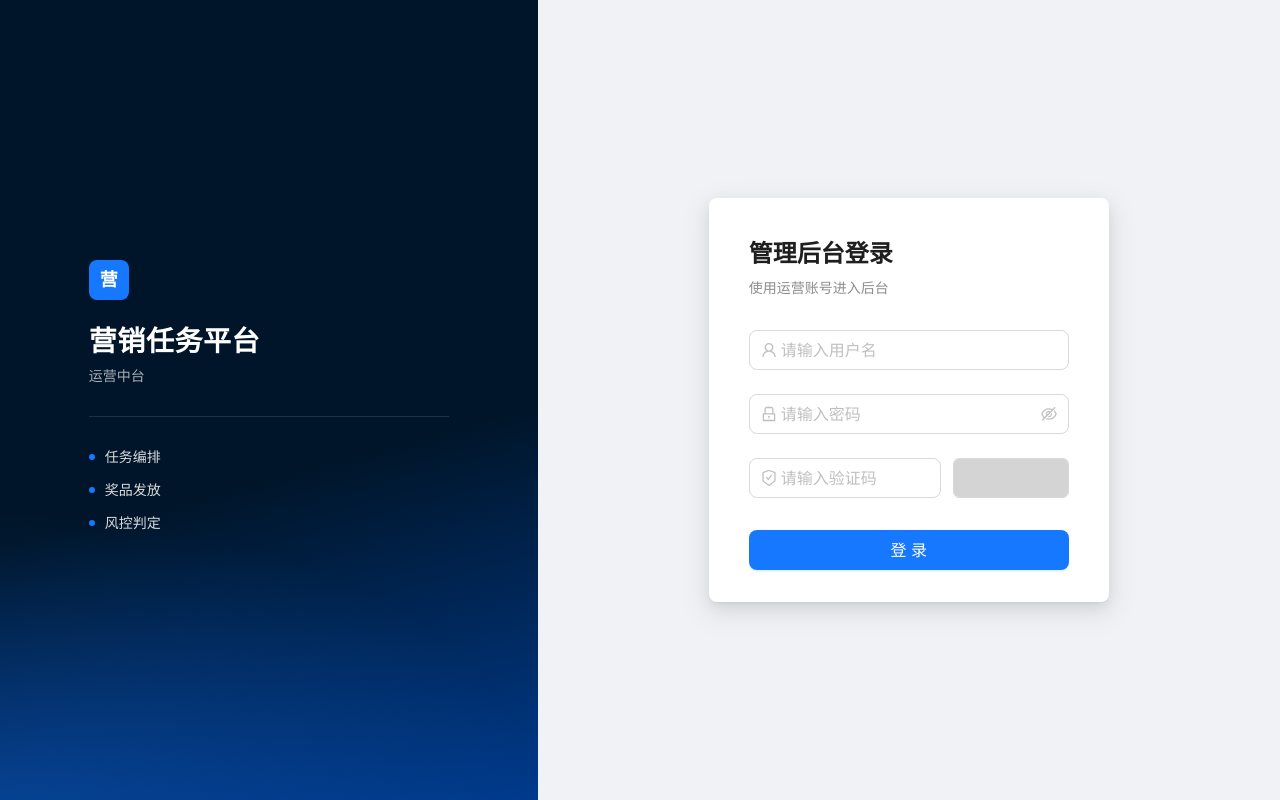
Test: LoginPage › shows unified credential error without refreshing captcha
The width and height of the screenshot is (1280, 800).
Type "admin" into the field with placeholder "请输入用户名" at coordinates (919, 350), box [781, 338, 1057, 362]
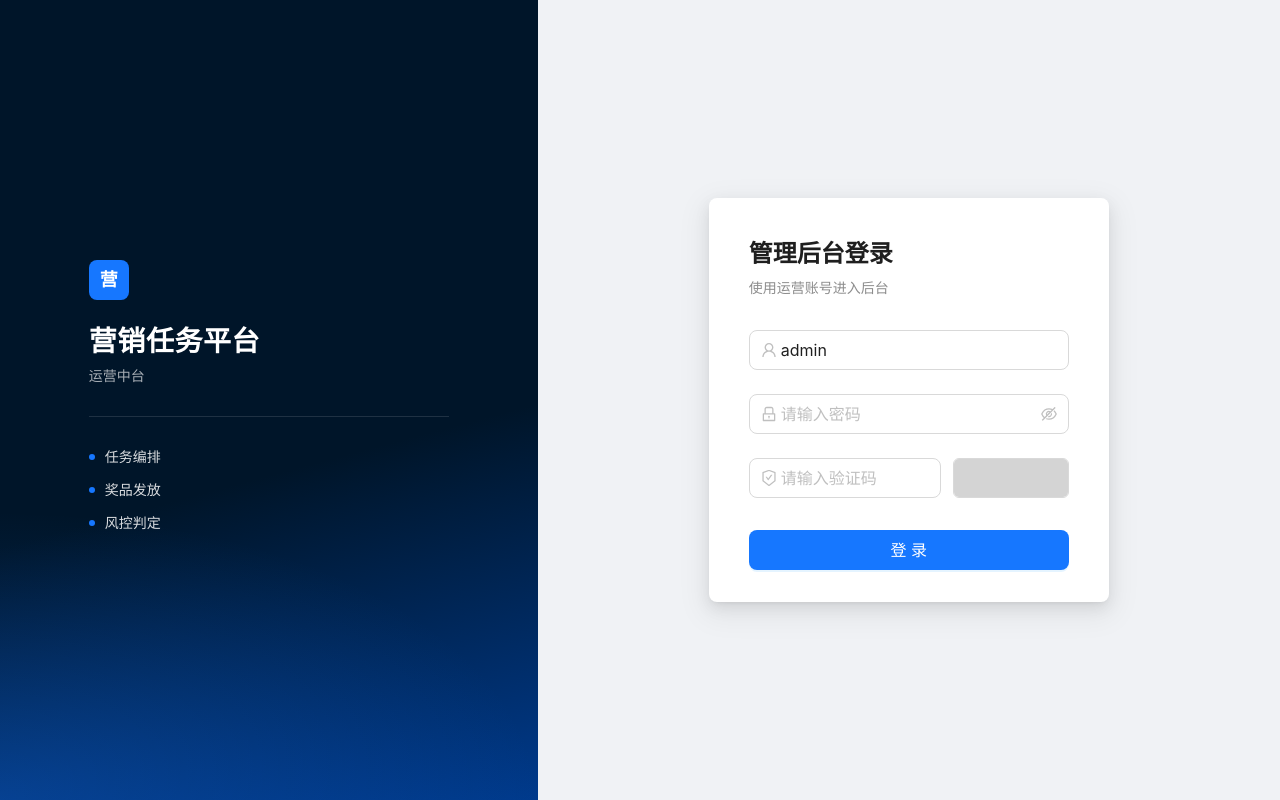
Type "wrong" into the password field with placeholder "请输入密码" at coordinates (909, 414), box [781, 402, 1037, 426]
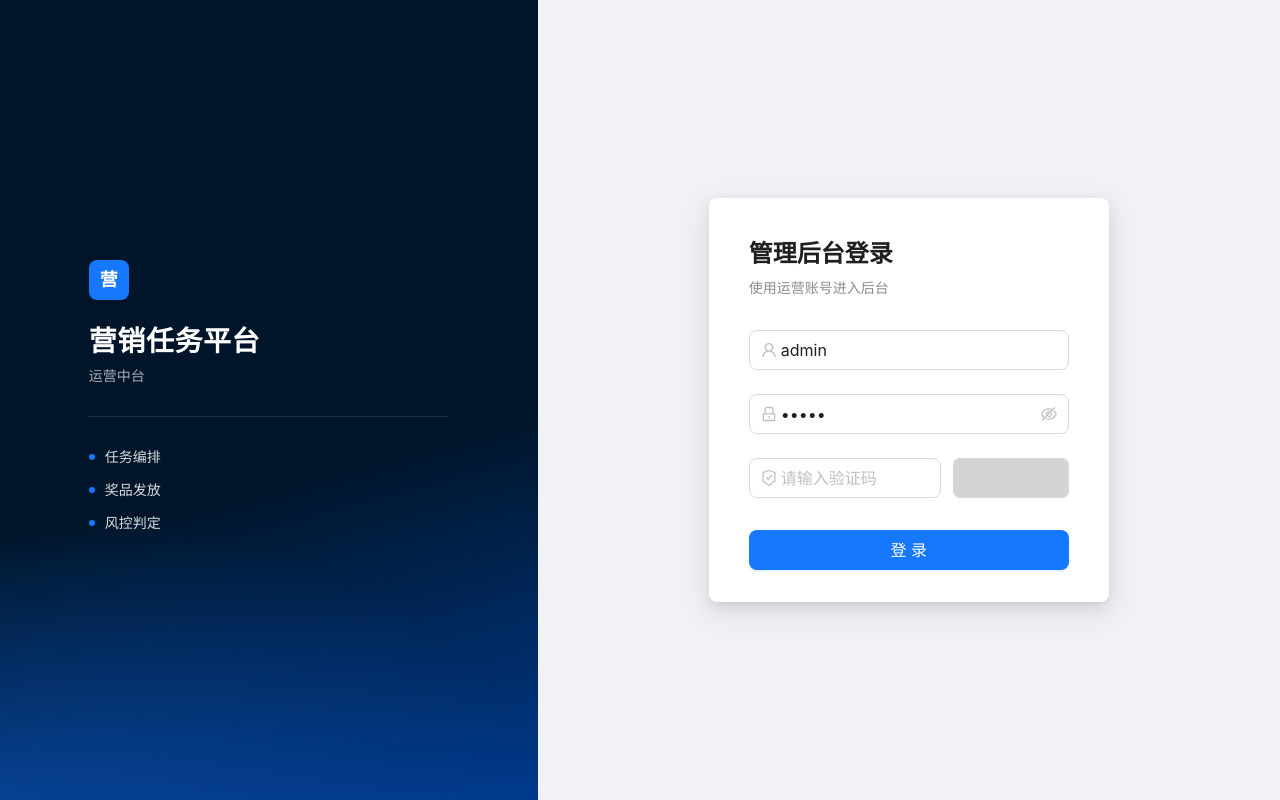
Type "ab12" into the field with placeholder "请输入验证码" at coordinates (855, 478), box [781, 466, 929, 490]
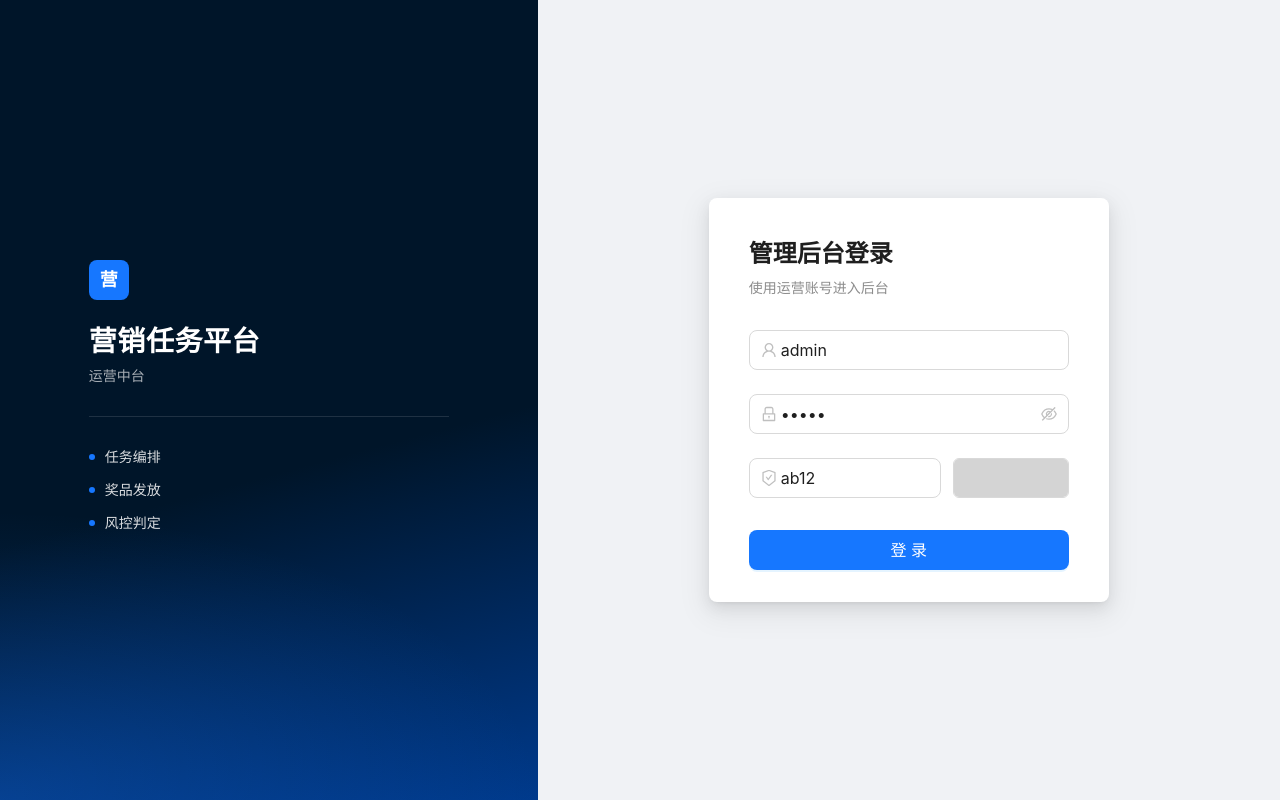
Submit the form, box [749, 238, 1069, 570]
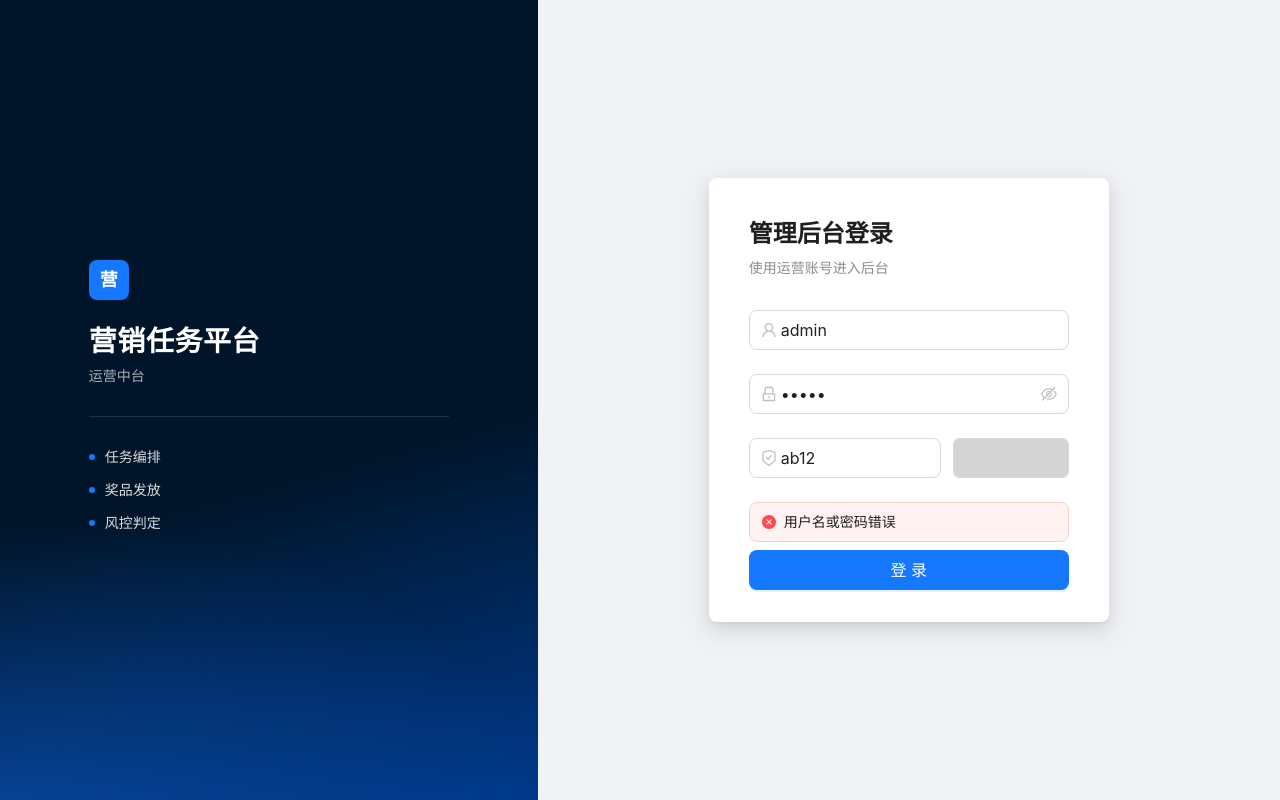
expect the message with test id "login-error" reads "用户名或密码错误": met, box [784, 513, 896, 530]
